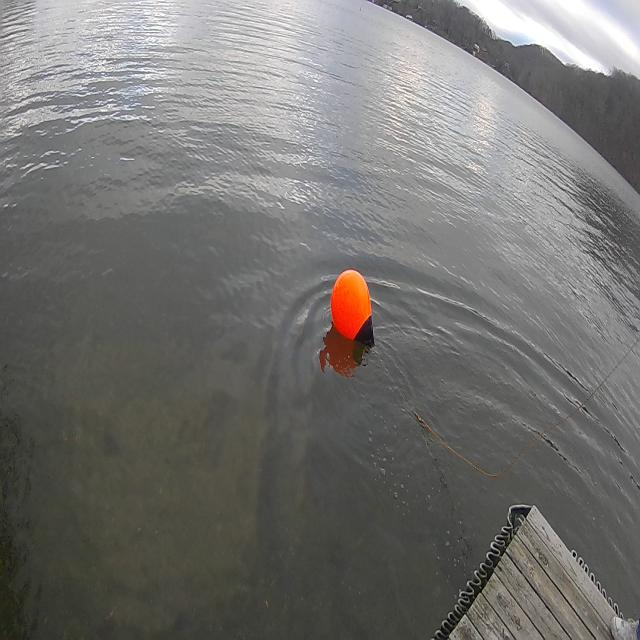Buoy: (324, 264, 381, 367)
